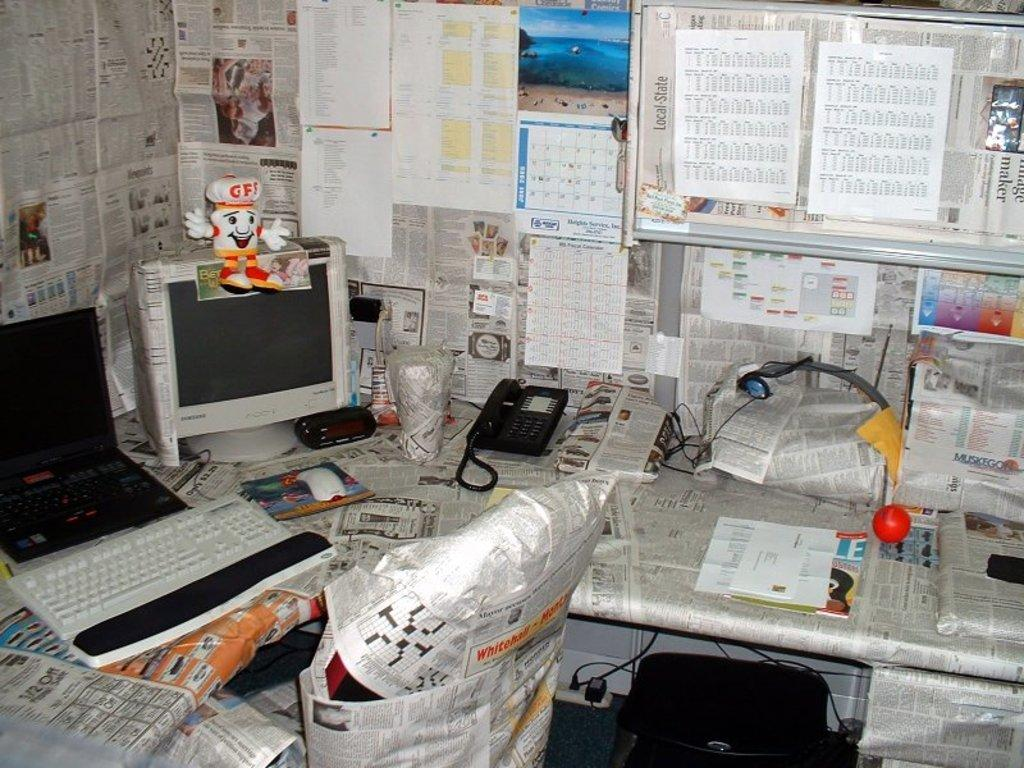Computer-monitor: (122, 242, 361, 425)
